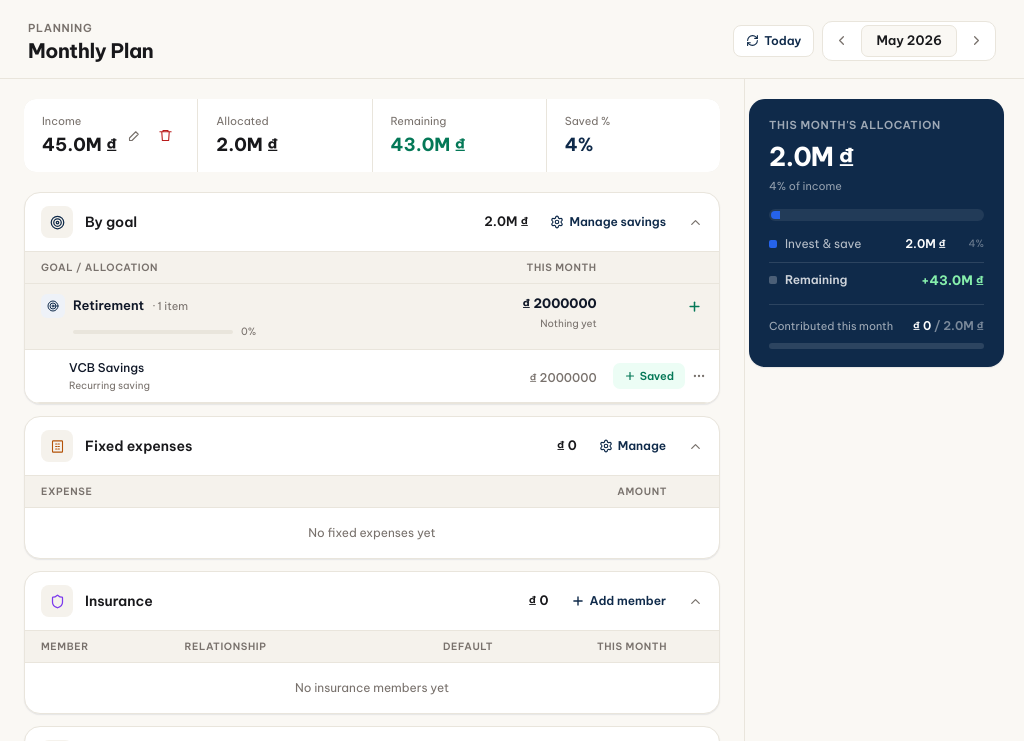
DesktopPlanningView — recurring deep-link edit › "Edit recurring plan" opens the manager straight on that item’s edit form
This screenshot has width=1024, height=741.
Click the button named "Saving actions": [699, 376] box [687,364,711,388]
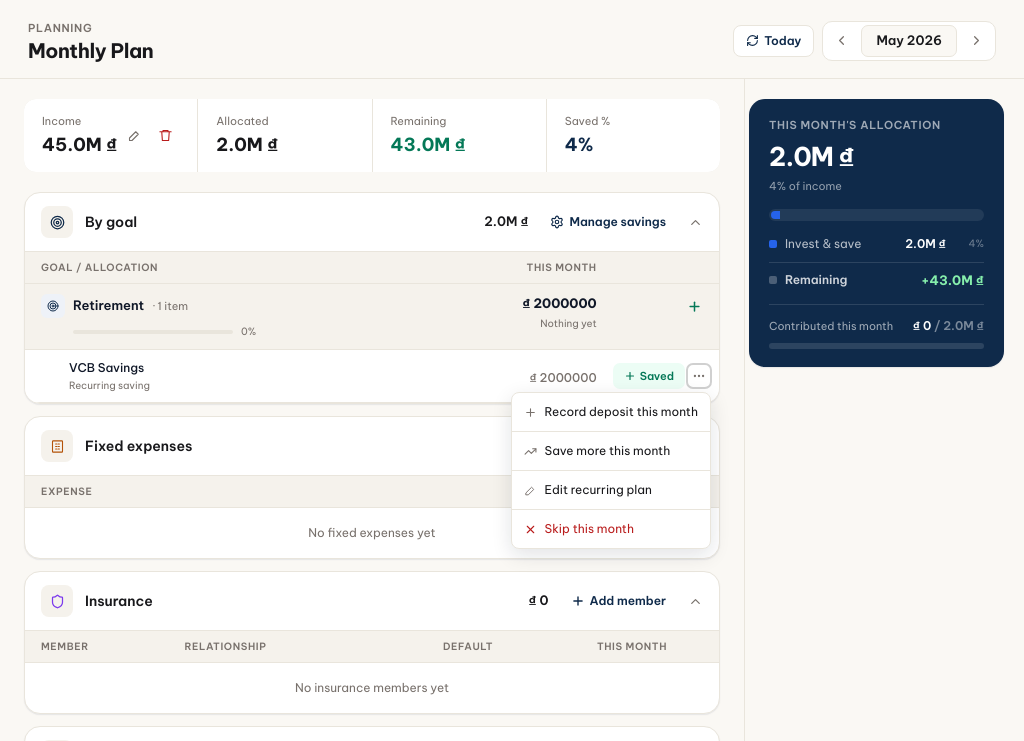
Click the menu item "Edit recurring plan": [611, 490] box [512,471,710,510]
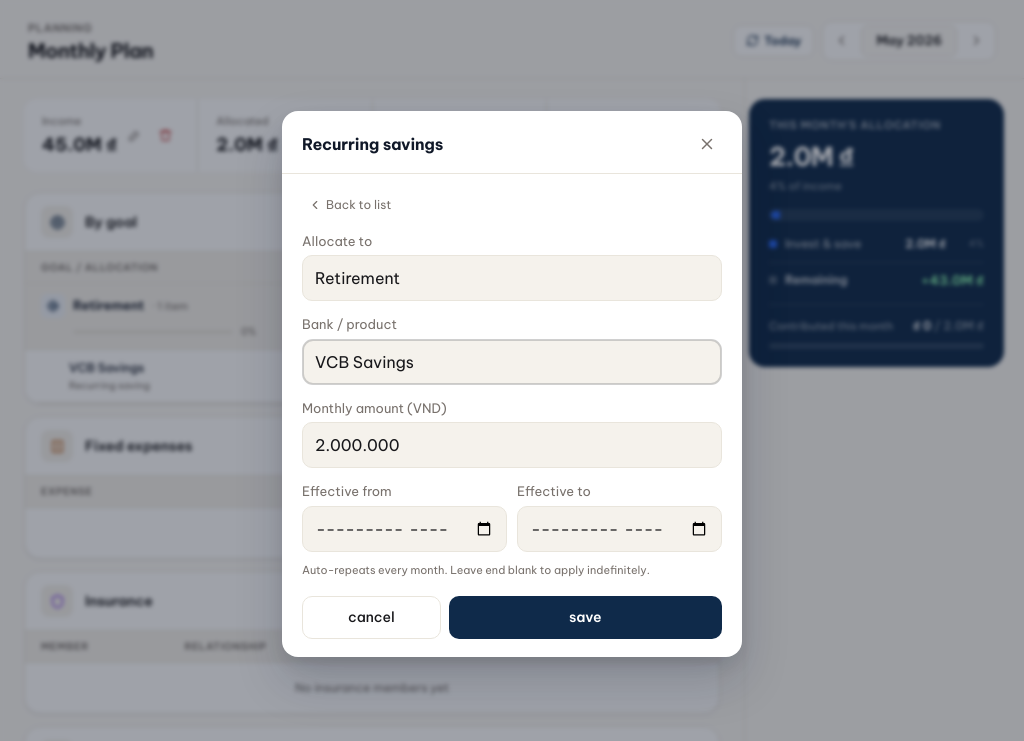
expect the field with test id "rs-name" holds "VCB Savings": met, box [302,339,722,385]
